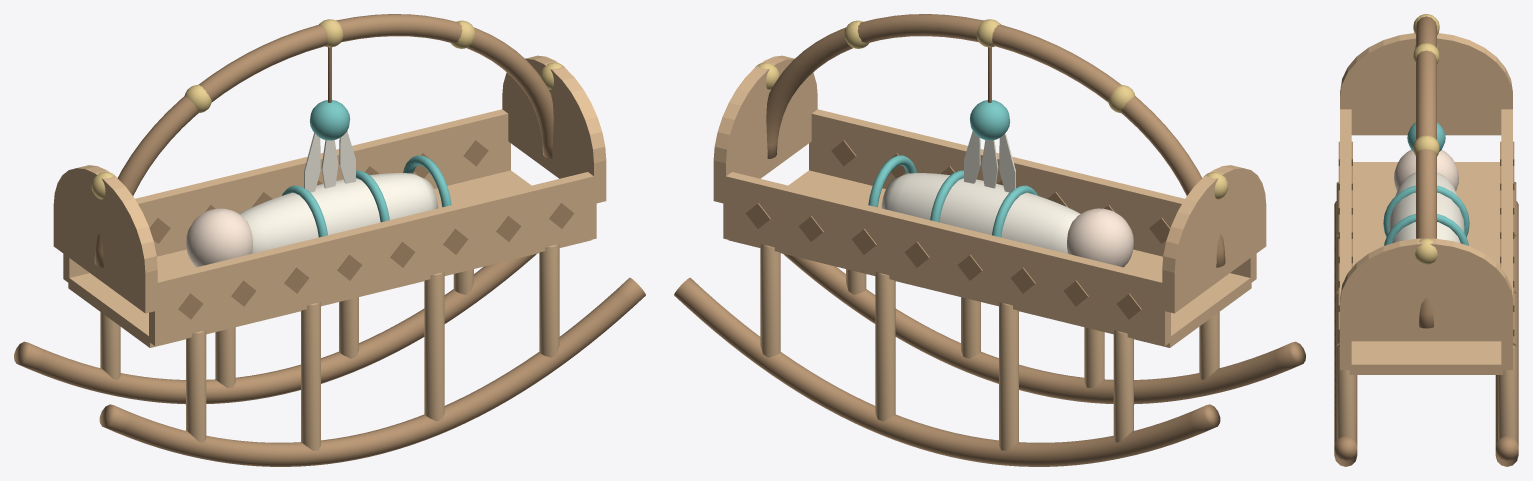
The model's file is besik.glb.
3 views of the same model, side by side, from view 1: azimuth 30°, elevation 25°; view 2: azimuth 150°, elevation 25°; view 3: azimuth 270°, elevation 25° (orthographic). The views are drawn at different scales.
Visible parts, largest first — view 1: side (×2), runner (×2), board (×2), leg (×7), bar, swaddle, bed, head, feather (×3), ribbon (×2), charm; view 2: side (×2), runner (×2), board (×2), leg (×7), bar, swaddle, bed, head, feather (×3), ribbon (×2), charm; view 3: board (×2), bed, side (×2), bar, runner (×2), leg (×2), swaddle, ribbon (×2), head, bead (×2), knob, charm.
Boxes of the visible parts, x1,y1,x2,y2 form: side (×2): [63, 109, 596, 346]; runner (×2): [14, 254, 645, 466]; board (×2): [53, 55, 606, 313]; leg (×7): [100, 244, 559, 450]; bar: [94, 14, 553, 267]; swaddle: [239, 173, 438, 253]; bed: [68, 170, 591, 347]; head: [186, 208, 252, 267]; feather (×3): [304, 131, 355, 192]; ribbon (×2): [282, 155, 451, 237]; charm: [309, 100, 349, 140]; side (×2): [723, 109, 1256, 346]; runner (×2): [674, 254, 1305, 466]; board (×2): [713, 55, 1266, 313]; leg (×7): [760, 244, 1219, 450]; bar: [766, 14, 1225, 267]; swaddle: [881, 173, 1080, 253]; bed: [728, 170, 1251, 347]; head: [1067, 208, 1133, 267]; feather (×3): [964, 131, 1015, 192]; ribbon (×2): [868, 155, 1037, 237]; charm: [970, 100, 1010, 140]; board (×2): [1340, 33, 1512, 341]; bed: [1349, 162, 1503, 374]; side (×2): [1340, 109, 1512, 369]; bar: [1416, 16, 1436, 328]; runner (×2): [1334, 201, 1518, 466]; leg (×2): [1336, 343, 1516, 440]; swaddle: [1388, 172, 1464, 243]; ribbon (×2): [1383, 185, 1469, 245]; head: [1394, 150, 1458, 191]; bead (×2): [1413, 43, 1439, 156]; knob: [1415, 238, 1437, 264]; charm: [1407, 122, 1445, 151].
Size of the model in its own units: 3.07 by 2.18 by 0.96.
